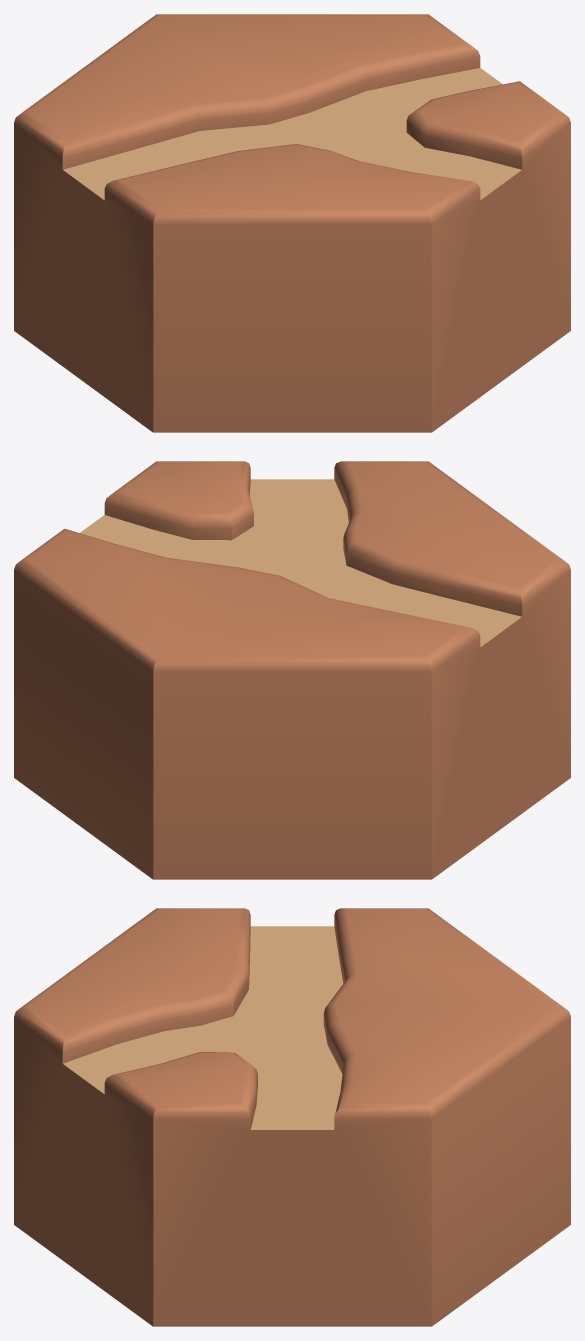
File: kaykit-hex-rock-roade.glb
3 renders of one model, top to bottom at view 1: azimuth 30°, elevation 25°; view 2: azimuth 150°, elevation 25°; view 3: azimuth 270°, elevation 25°, orthographic.
Visible parts, largest first — view 1: hex_rock_roadE; view 2: hex_rock_roadE; view 3: hex_rock_roadE.
Part boxes in pixels (left/top/right/bottom): hex_rock_roadE: left=14, top=14, right=570, bottom=432; hex_rock_roadE: left=14, top=461, right=570, bottom=879; hex_rock_roadE: left=14, top=908, right=570, bottom=1326.
Bounding box in the file's own units: 2 × 1 × 2.31.
